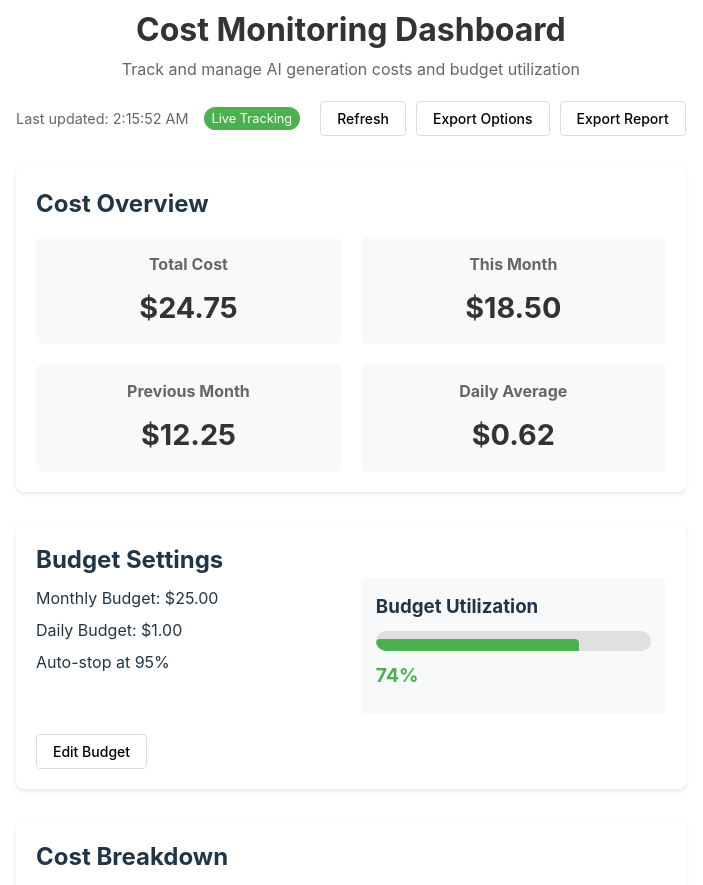
Test: CostMonitoring Component › Budget Management › should allow editing budget settings
Step 1. Click the button "Edit Budget" → (92, 752), box x1=36 y1=734 x2=147 y2=769
(page scrolled)
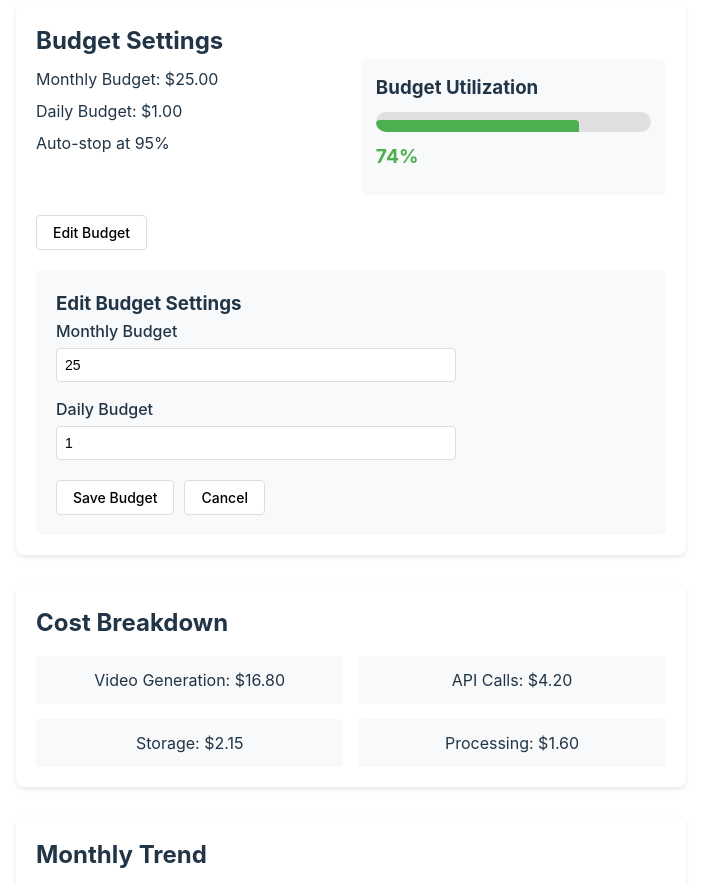
Now the heading "Edit Budget Settings" is shown, box x1=56 y1=292 x2=241 y2=315
Now the number field labelled "Monthly Budget" is shown, box x1=56 y1=348 x2=456 y2=382
Now the number field labelled "Daily Budget" is shown, box x1=56 y1=426 x2=456 y2=460
